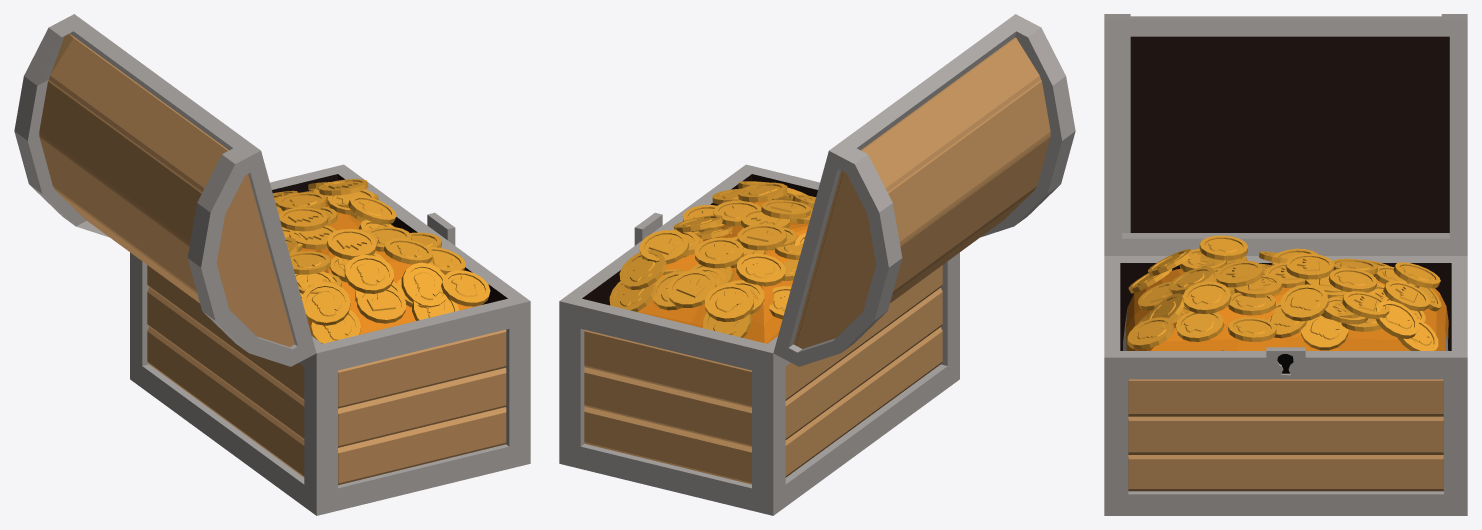
File: Treasure_Chest.glb
3 renders of one model, left to right at view 1: azimuth 30°, elevation 25°; view 2: azimuth 150°, elevation 25°; view 3: azimuth 270°, elevation 25°, orthographic. The views are drawn at different scales.
Parts seen in each view (by area): view 1: Coin.052; view 2: Coin.052; view 3: Coin.052.
Part boxes in pixels (left/top/right/bottom): Coin.052: left=14, top=14, right=530, bottom=515; Coin.052: left=559, top=14, right=1075, bottom=515; Coin.052: left=1104, top=14, right=1467, bottom=515.
Bounding box in the file's own units: 4.34 × 4.66 × 4.16.
